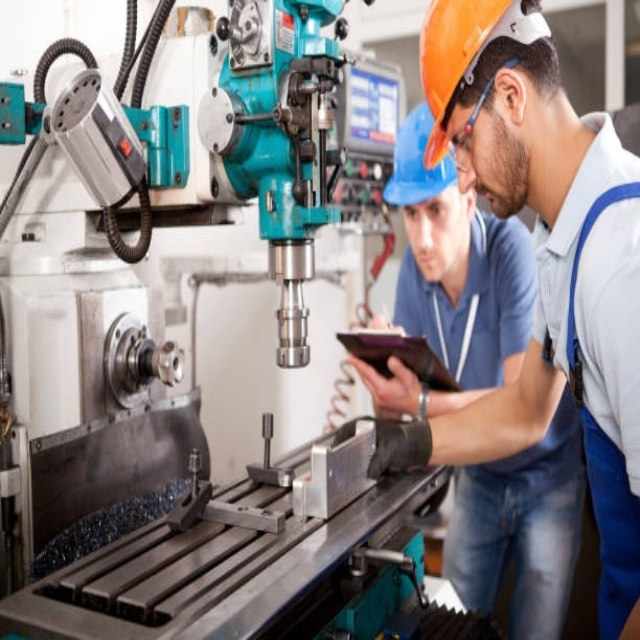Gafas: (440, 56, 517, 174)
Guantes: (330, 409, 438, 482)
Sin_gafas: (403, 191, 451, 227)
Sin_guantes: (342, 352, 421, 419)
Sin_mascara: (474, 176, 512, 220), (410, 242, 449, 284)
